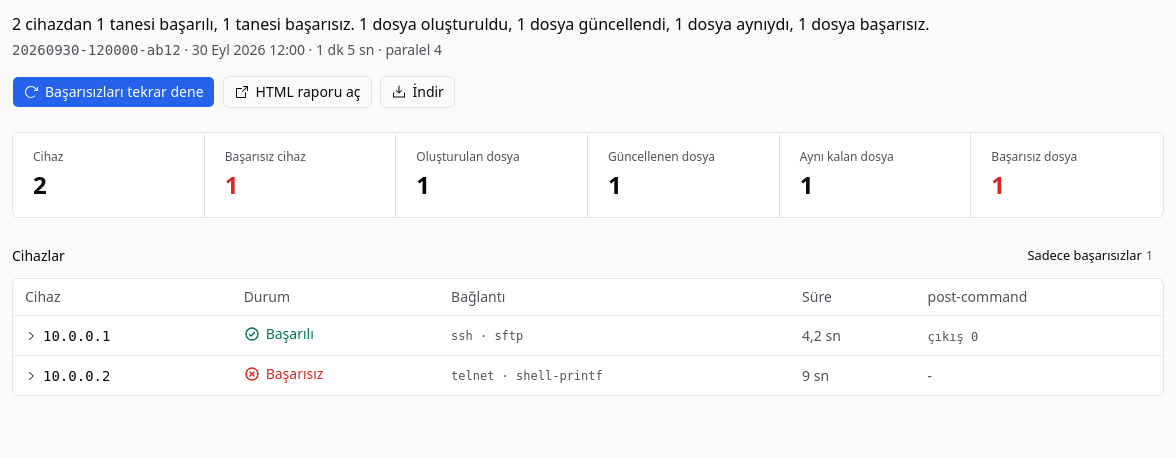
ReportView › summarises, filters failures and expands device files
This screenshot has width=1176, height=458.
Expected: the text "2 cihazdan 1 tanesi başarılı, 1 tanesi başarısız. 1 dosya oluşturuldu, 1 dosya güncellendi, 1 dosya aynıydı, 1 dosya baş" is shown, [12,13,930,35]
What coordinates should you click on to do the following:
click the button "Sadece başarısızlar 1"
I would click on:
 (1090, 256)
Its box is [1016,242,1164,270].
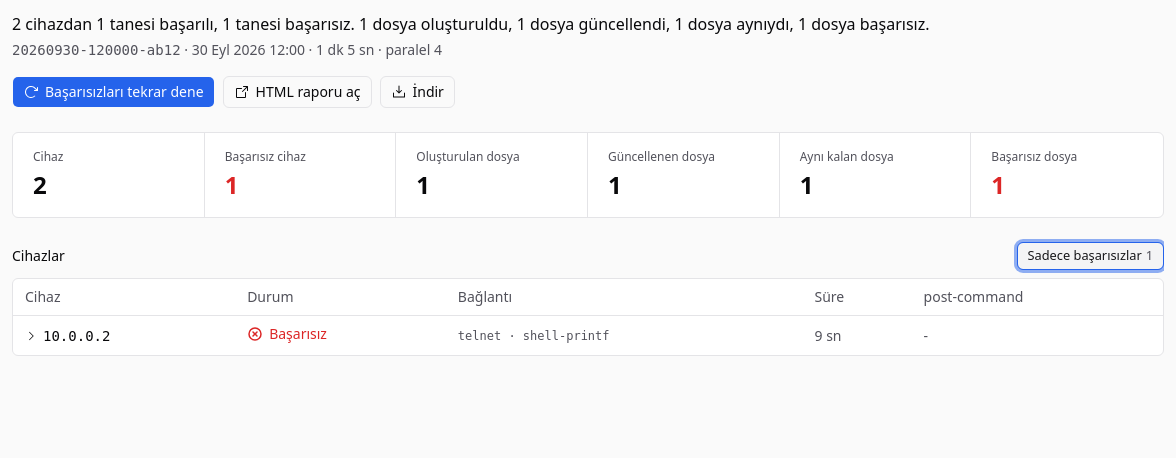
Result: the button "10.0.0.1" is gone
What coordinates should you click on to do the following:
click the button "10.0.0.2"
I would click on:
 (68, 336)
Its box is [25,326,110,346].
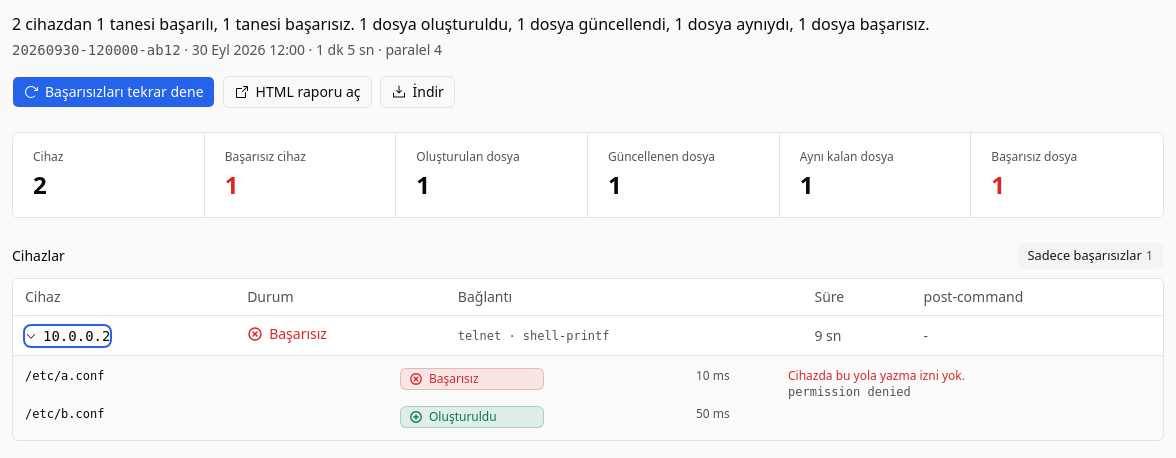
Result: the text "permission denied" is shown at [788,385,911,399]
